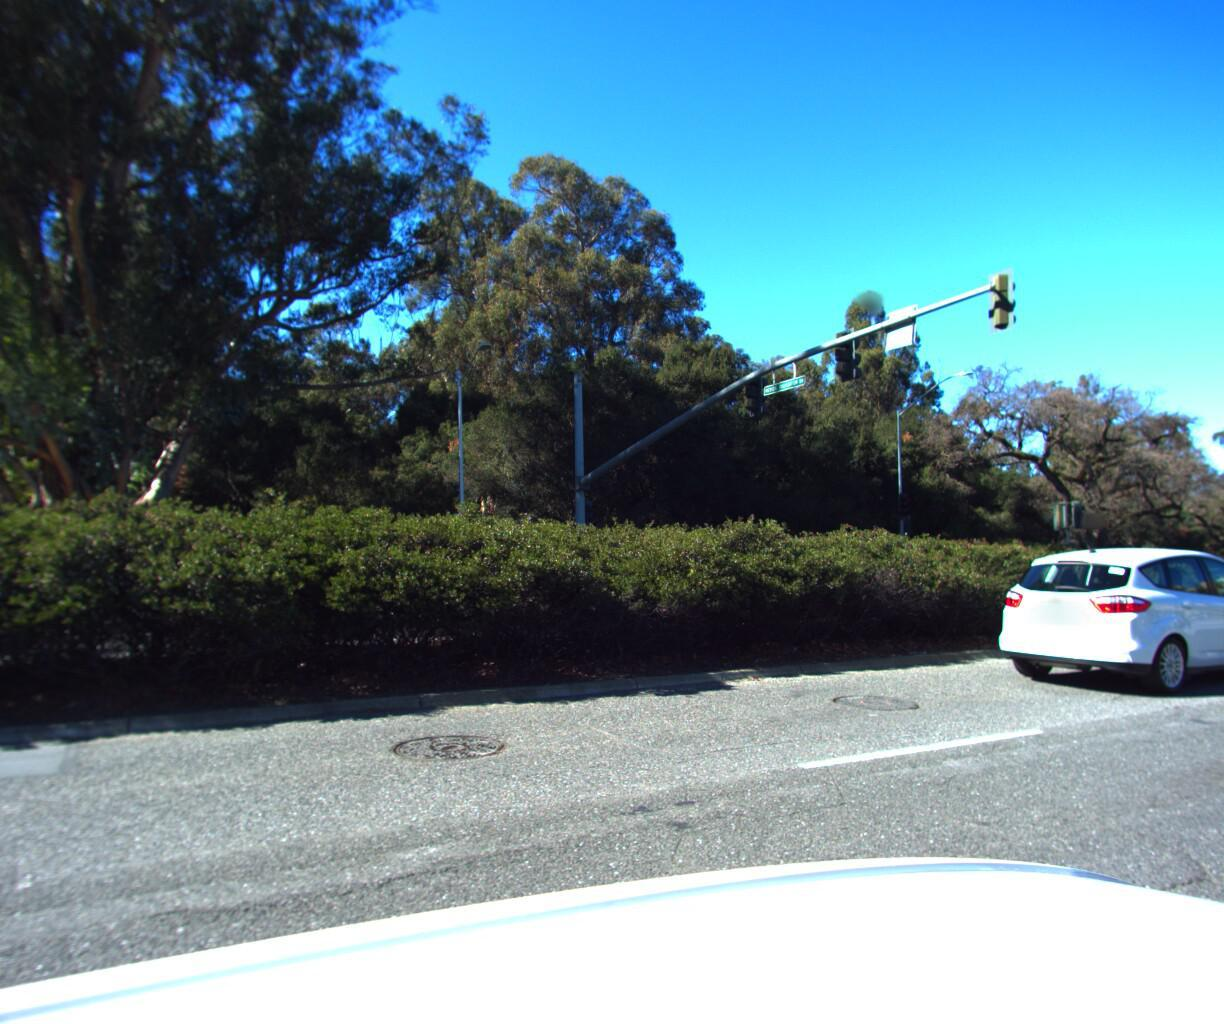car: (989, 533, 1224, 695), (1222, 546, 1224, 596)
